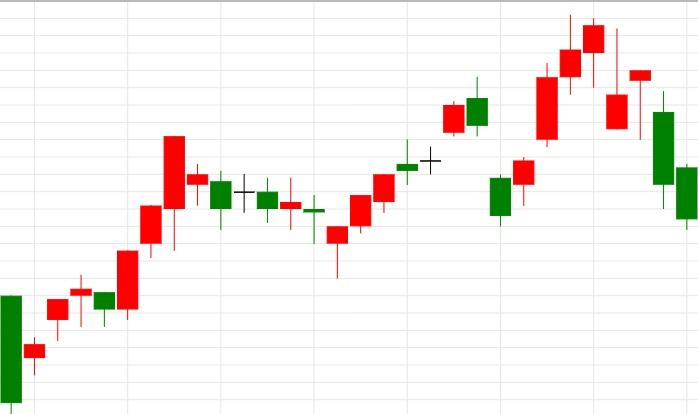bearish_engulfing_fall: (326, 76, 489, 278)
hammer_rise: (163, 135, 349, 279)
